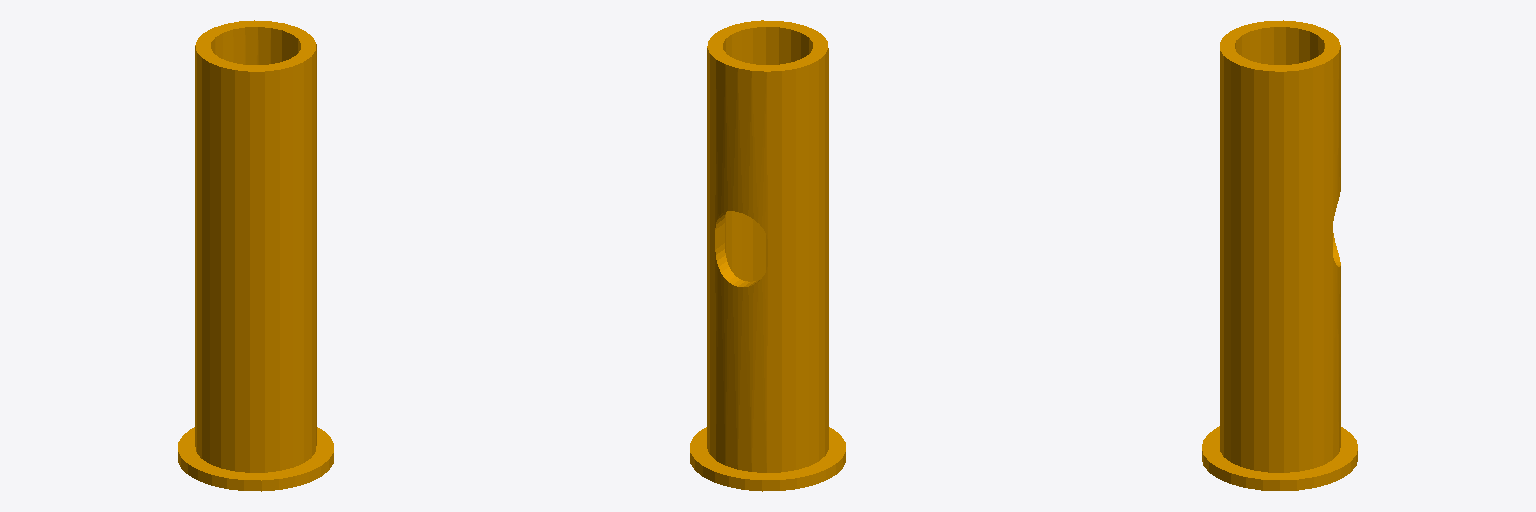
URDF robot description (00446_socket):
<?xml version="1.0"?>
<robot name="00446_socket">
	<link name="00446_socket">
		<visual>
			<geometry>
				<mesh filename="../mesh/00446/asset_socket.obj"/>
			</geometry>
		</visual>
		<collision>
			<geometry>
				<mesh filename="../mesh/00446/asset_socket.obj"/>
			</geometry>
			<sdf resolution="256"/>
		</collision>
	</link>
</robot>

--- Render facts (derived) ---
Views: 3 orthographic renders of the robot side by side, from view 1: azimuth 30°, elevation 25°; view 2: azimuth 150°, elevation 25°; view 3: azimuth 270°, elevation 25°.
Robot: 00446_socket — 1 links, 0 joints (none); root link 00446_socket; default pose: every joint at zero.
Visible links, largest first — view 1: 00446_socket; view 2: 00446_socket; view 3: 00446_socket.
Boxes of the visible links, bbox=[...] form: 00446_socket: bbox=[178, 20, 333, 491]; 00446_socket: bbox=[690, 20, 845, 491]; 00446_socket: bbox=[1202, 20, 1357, 490].
Size in the robot's own frame: 0.0209 by 0.0209 by 0.0605 metres.
Meshes: 1 distinct files referenced, 1 mesh visuals loaded (1 OBJ).
